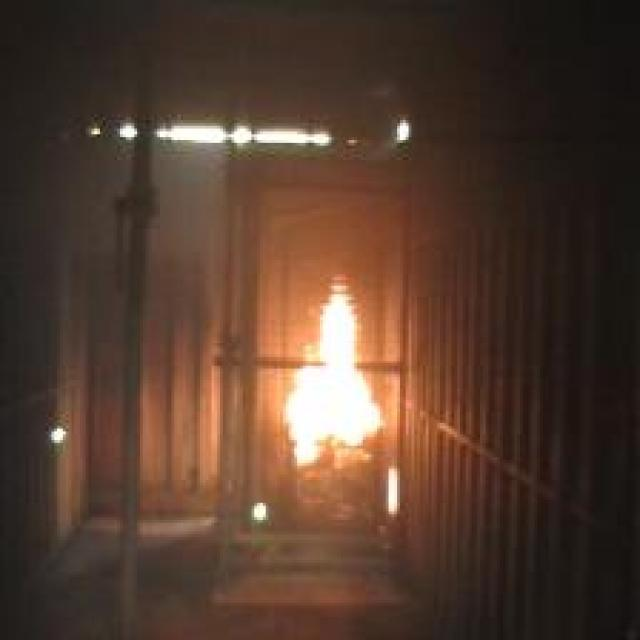Fire: (283, 274, 383, 463)
